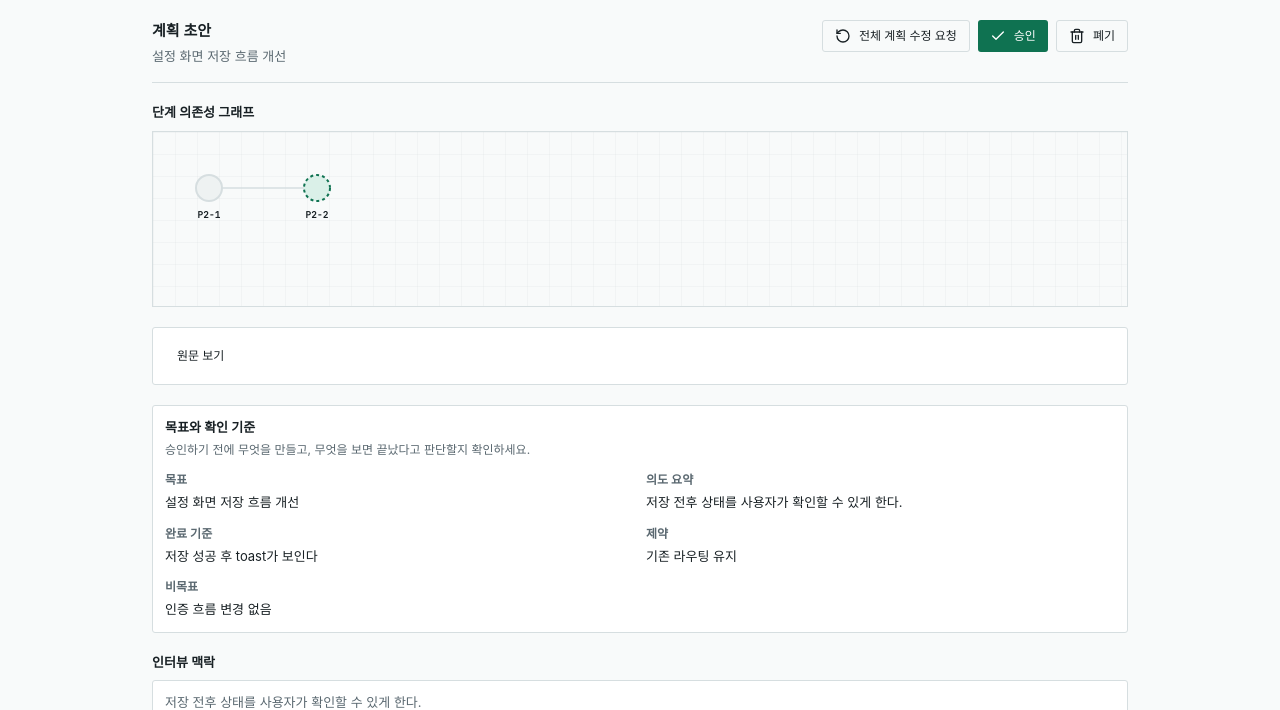
Test: PlanDraftApprovalScreen intent and step review surface › shows dependency map before review content and opens request changes on demand
The width and height of the screenshot is (1280, 710).
Click the button with test id "plan-draft-request-changes-toggle". click: (896, 36)
box: [822, 20, 970, 52]
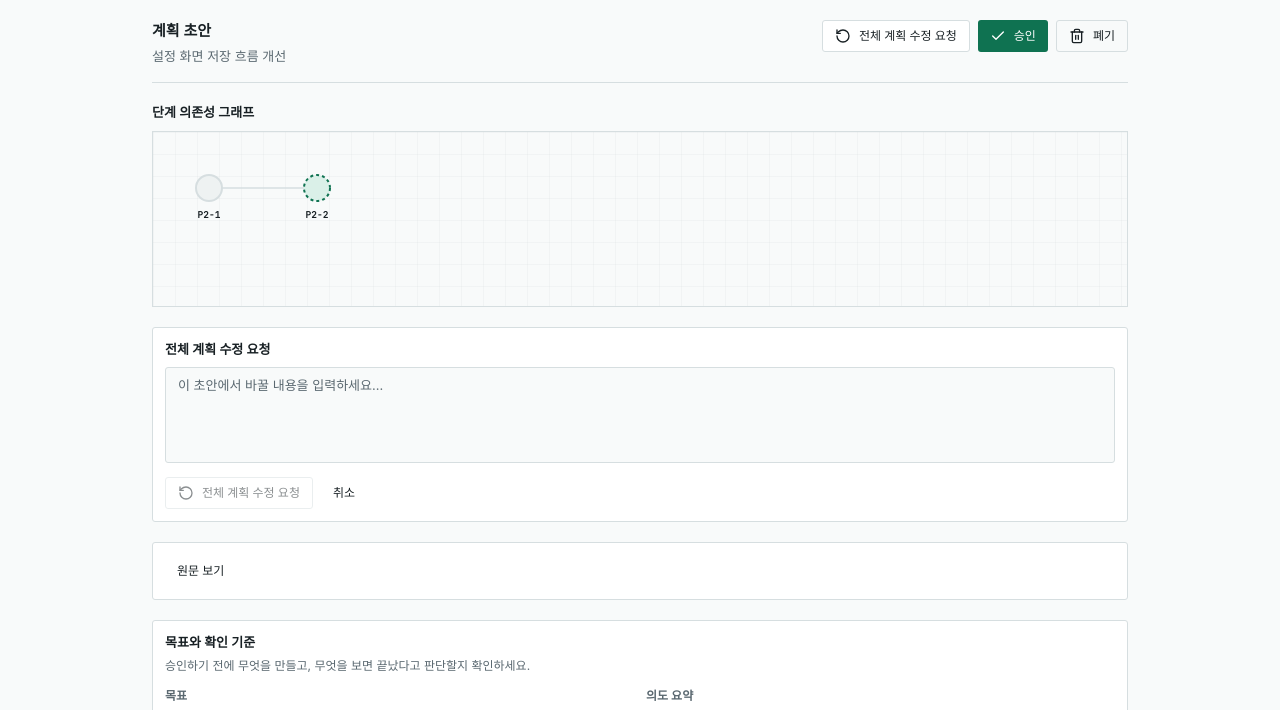
Expected: the element with test id "plan-draft-request-changes-panel" is shown, [152, 326, 1128, 522]
Type "Split the first step into a smaller setup step." into the text box with test id "plan-draft-request-changes-input". click: (640, 415)
box: [165, 367, 1115, 463]
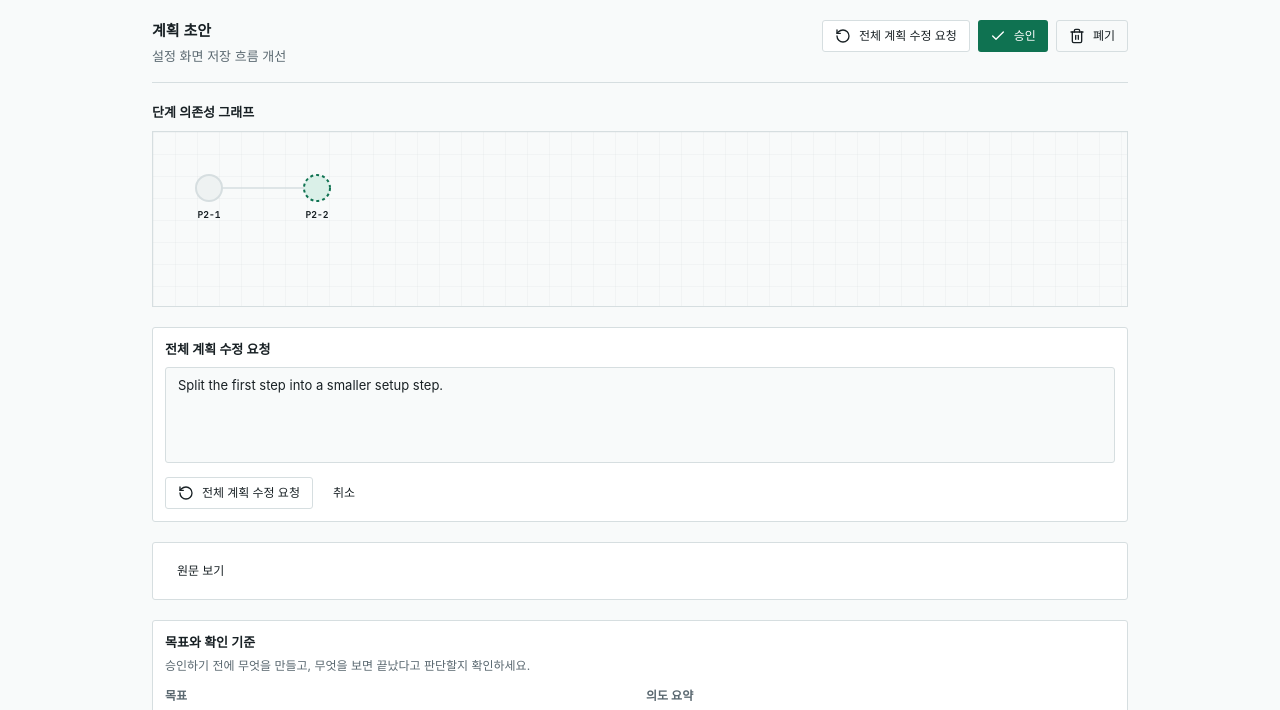
Click the button with test id "plan-draft-request-changes-submit". click: (239, 493)
box: [165, 477, 313, 509]
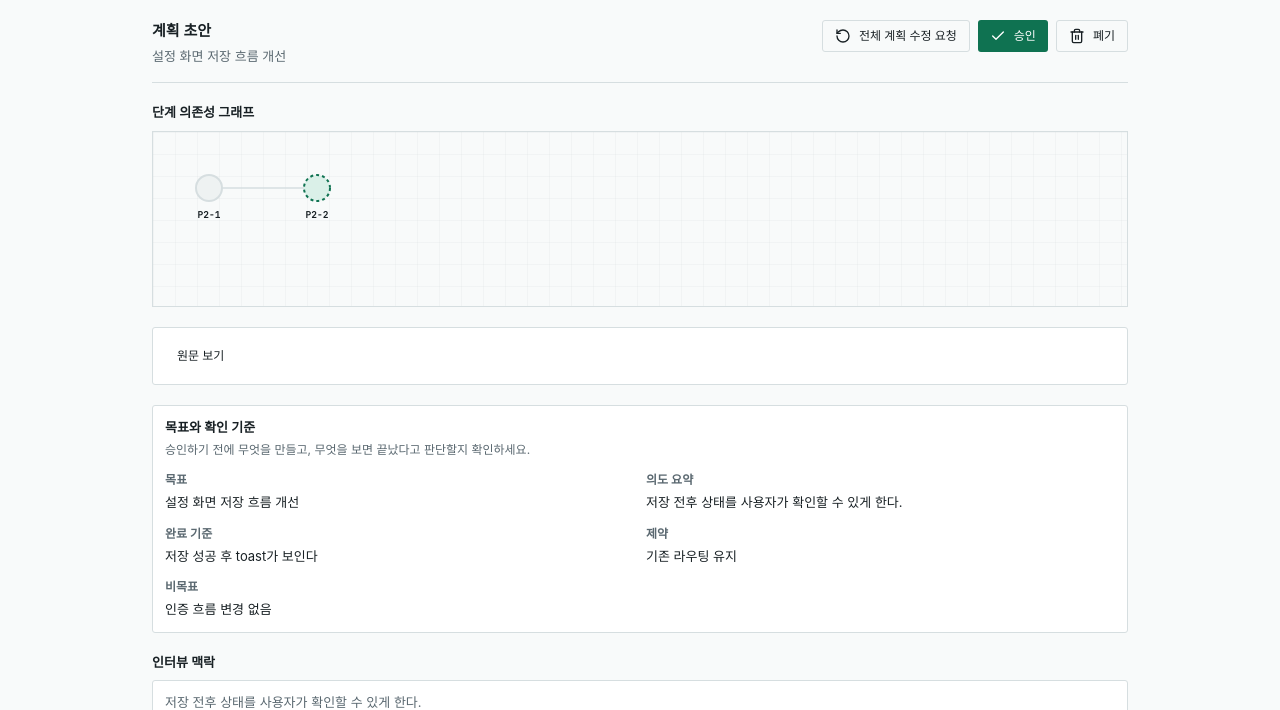
Expected: the element with test id "plan-draft-request-changes-panel" is gone
